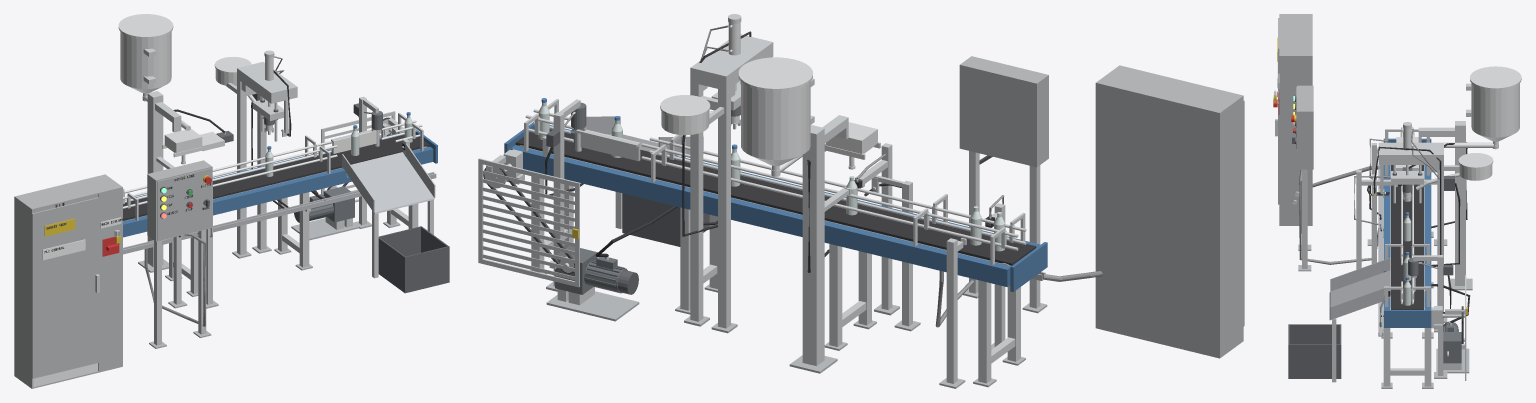
File: bottle_line.glb
3 renders of one model, left to right at view 1: azimuth 30°, elevation 25°; view 2: azimuth 150°, elevation 25°; view 3: azimuth 270°, elevation 25°, orthographic. The views are drawn at different scales.
Visible parts, largest first — view 1: PLC_Door, PLC_Cab_Pillar, RJT_Bin, Conv_Belt, PLC_Cab_Left, Panel_Face, RJT_Chute_Floor, Conv_Frame_L_In, FILL_Tank, PLC_Cab_Top, Conv_CableTray, FILL_Mast (+29 smaller); view 2: PLC_Cab_Back, Conv_Frame_R, Panel_Body, Conv_Belt, PLC_Cab_Left, FILL_Mast, FILL_Tank, DRIVE_Guard_Slats, CAP_Post_FA, CAP_Post_FB, PLC_Cab_Top, RJT_Bin (+27 smaller); view 3: PLC_Cab_Right, Conv_Belt, RJT_Bin, FILL_Tank, FILL_Mast, Panel_Body, PLC_Cab_Top, CAP_Beam, RJT_Chute_Floor, FILL_Tank_Lid, Conv_Frame_R, Conv_EndPlate_Out (+27 smaller).
Boxes of the visible parts, x1=… form: PLC_Door: x1=32, y1=197, x2=99, y2=378; PLC_Cab_Pillar: x1=98, y1=186, x2=122, y2=372; RJT_Bin: x1=378, y1=226, x2=449, y2=293; Conv_Belt: x1=123, y1=135, x2=429, y2=220; PLC_Cab_Left: x1=14, y1=196, x2=33, y2=388; Panel_Face: x1=157, y1=168, x2=211, y2=240; RJT_Chute_Floor: x1=351, y1=152, x2=434, y2=213; Conv_Frame_L_In: x1=123, y1=168, x2=346, y2=237; FILL_Tank: x1=120, y1=32, x2=171, y2=89; PLC_Cab_Top: x1=15, y1=174, x2=120, y2=210; Conv_CableTray: x1=123, y1=172, x2=436, y2=254; FILL_Mast: x1=147, y1=91, x2=163, y2=267; PLC_Cab_Back: x1=1095, y1=82, x2=1220, y2=357; Conv_Frame_R: x1=510, y1=145, x2=1010, y2=286; Panel_Body: x1=959, y1=56, x2=1048, y2=167; Conv_Belt: x1=515, y1=129, x2=1036, y2=265; PLC_Cab_Left: x1=1218, y1=95, x2=1243, y2=356; FILL_Mast: x1=802, y1=125, x2=824, y2=365; FILL_Tank: x1=741, y1=82, x2=810, y2=159; DRIVE_Guard_Slats: x1=482, y1=170, x2=574, y2=280; CAP_Post_FA: x1=718, y1=71, x2=730, y2=328; CAP_Post_FB: x1=690, y1=64, x2=703, y2=321; PLC_Cab_Top: x1=1096, y1=66, x2=1242, y2=113; RJT_Bin: x1=622, y1=193, x2=709, y2=246; PLC_Cab_Right: x1=1279, y1=55, x2=1312, y2=225; Conv_Belt: x1=1391, y1=142, x2=1423, y2=309; RJT_Bin: x1=1288, y1=324, x2=1341, y2=378; FILL_Tank: x1=1471, y1=83, x2=1519, y2=137; FILL_Mast: x1=1455, y1=121, x2=1465, y2=285; Panel_Body: x1=1297, y1=85, x2=1313, y2=169; PLC_Cab_Top: x1=1279, y1=14, x2=1312, y2=56; CAP_Beam: x1=1378, y1=142, x2=1443, y2=164; RJT_Chute_Floor: x1=1329, y1=270, x2=1390, y2=320; FILL_Tank_Lid: x1=1470, y1=66, x2=1521, y2=90; Conv_Frame_R: x1=1424, y1=165, x2=1431, y2=309; Conv_EndPlate_Out: x1=1383, y1=310, x2=1431, y2=327.
Size of the model in its own units: 4.57 by 2.12 by 2.25.
